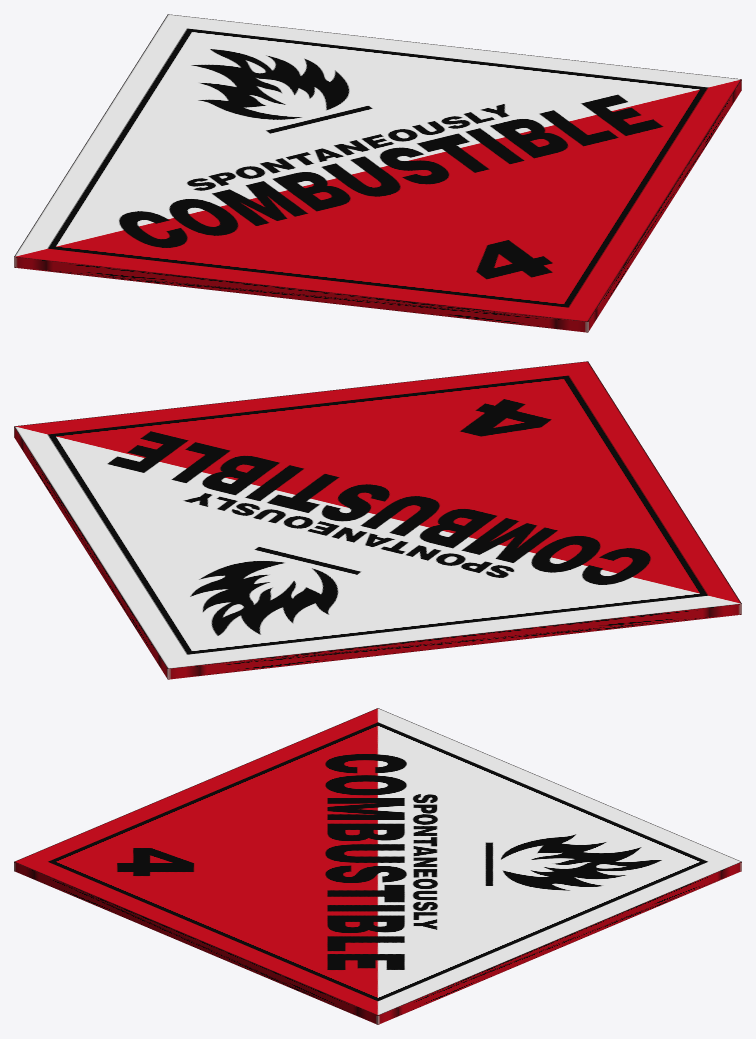
File: hazmat_spontaneously-combustible.dae
The picture shows the model from 3 angles, top to bottom: view 1: azimuth 30°, elevation 25°; view 2: azimuth 150°, elevation 25°; view 3: azimuth 270°, elevation 25°; orthographic projection. The views are drawn at different scales.
Visible parts, largest first — view 1: Sign_Material.023; view 2: Sign_Material.023; view 3: Sign_Material.023.
Boxes of the visible parts, box(x1,y1,x2,y2) form: Sign_Material.023: box(14, 14, 741, 332); Sign_Material.023: box(14, 361, 741, 679); Sign_Material.023: box(14, 708, 741, 1024).
Bounding box in the file's own units: 0.1414 × 0.1414 × 0.002.
Materials: 1 (1 with a texture image).
